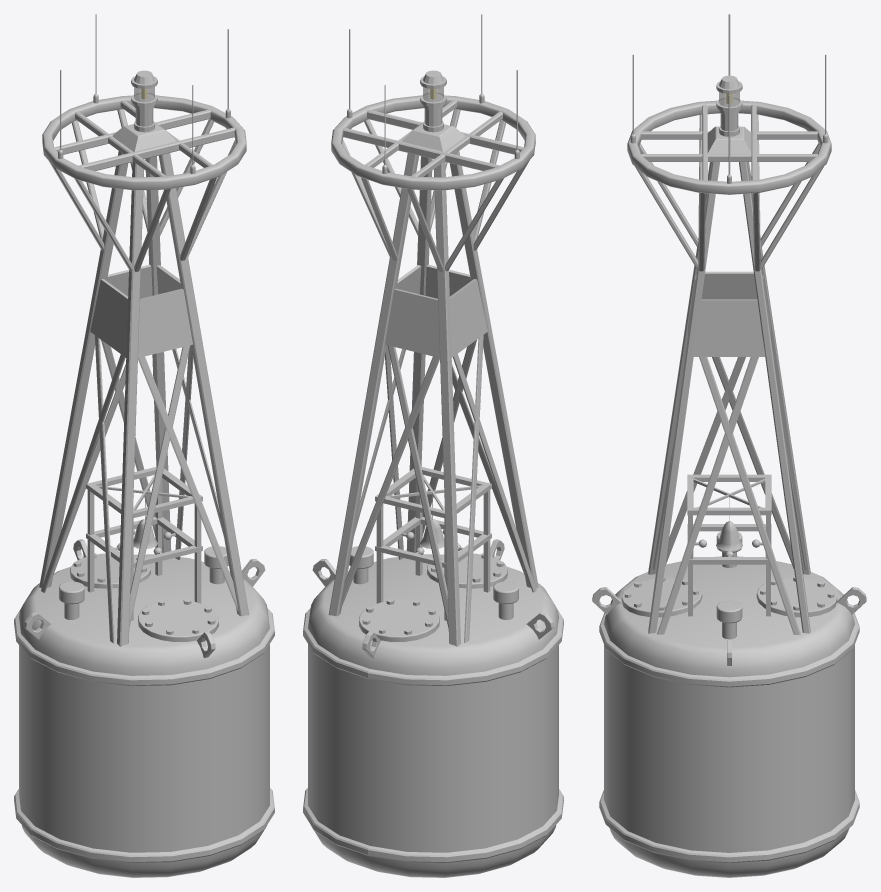
The model's file is Buoy01.fbx.
3 renders of one model, left to right at view 1: azimuth 30°, elevation 25°; view 2: azimuth 150°, elevation 25°; view 3: azimuth 270°, elevation 25°, orthographic.
Visible parts, largest first — view 1: Buoy01; view 2: Buoy01; view 3: Buoy01.
Part boxes in pixels (x1=…): Buoy01: x1=14, y1=14, x2=274, y2=877; Buoy01: x1=303, y1=14, x2=563, y2=877; Buoy01: x1=592, y1=14, x2=866, y2=877.
Size of the model in its own units: 0.7066 by 2.22 by 0.7066.
